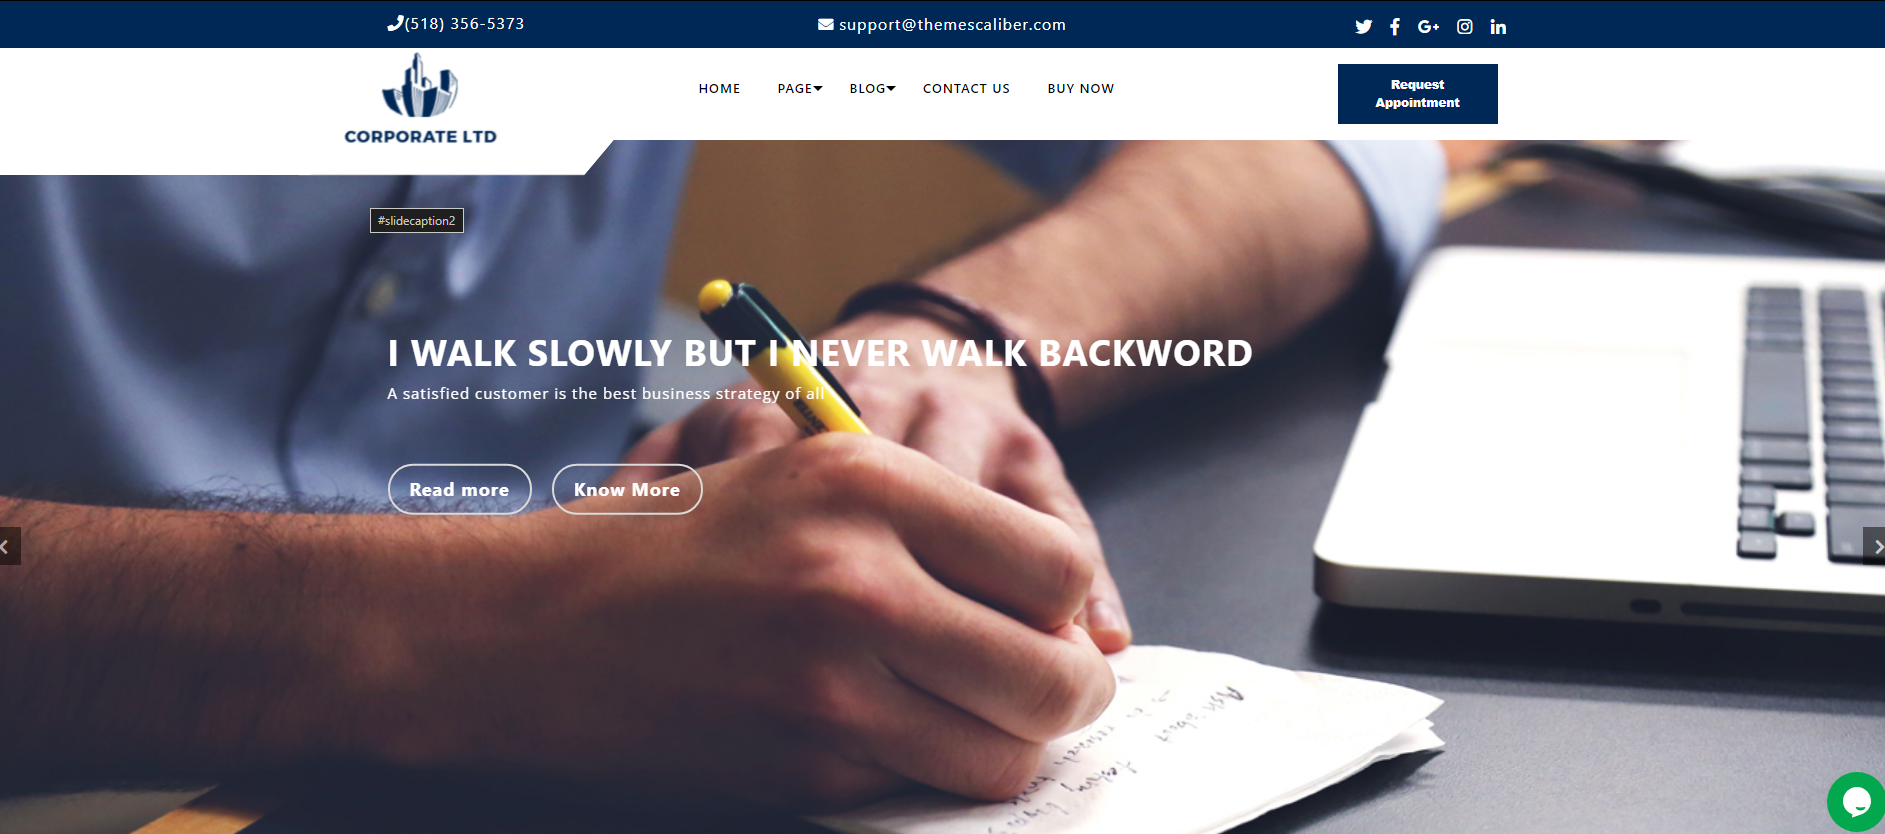menu-bar: (26, 1, 1877, 192)
